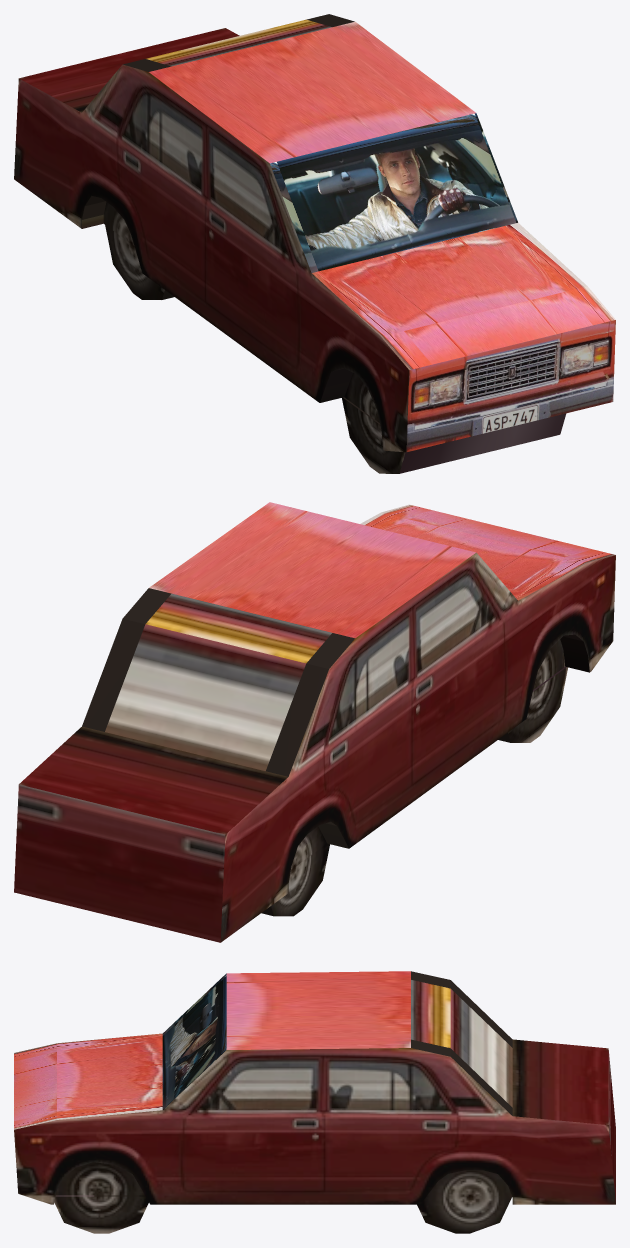
The model's file is PS1QuickCar.fbx.
3 renders of one model, top to bottom at view 1: azimuth 30°, elevation 25°; view 2: azimuth 150°, elevation 25°; view 3: azimuth 270°, elevation 25°, orthographic. The views are drawn at different scales.
Visible parts, largest first — view 1: Cube; view 2: Cube; view 3: Cube.
Boxes of the visible parts, x1,y1,x2,y2 form: Cube: (14, 14, 615, 473); Cube: (14, 502, 615, 942); Cube: (14, 971, 615, 1233).
Size of the model in its own units: 127 by 150 by 420.
